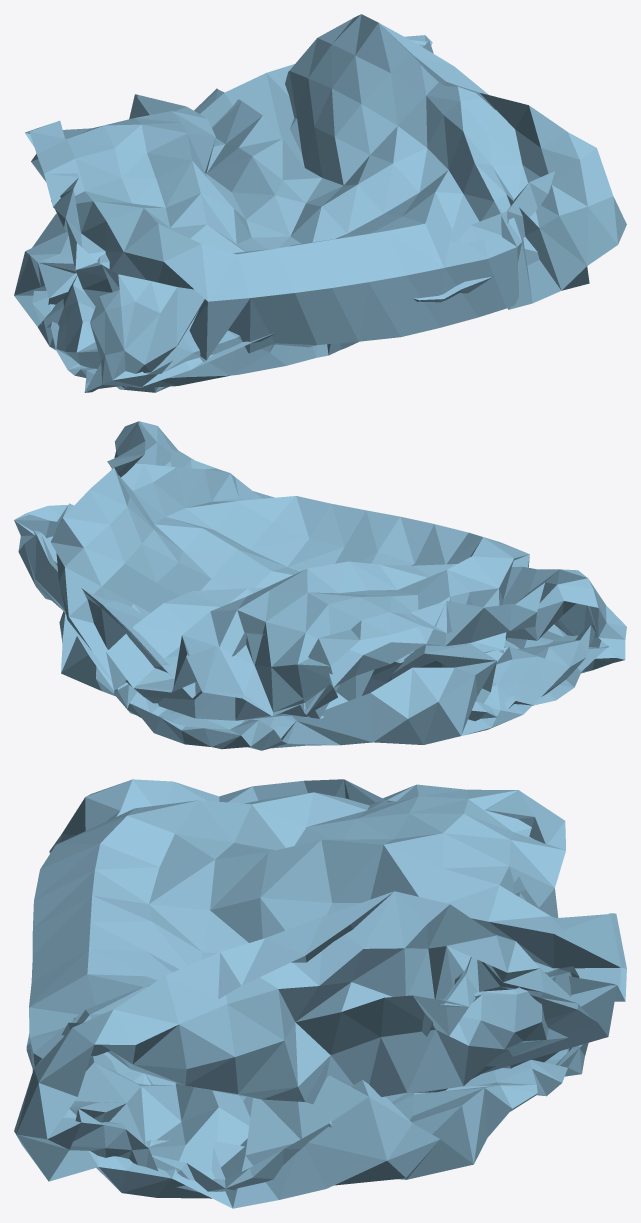
File: frame_20.glb
3 views of the same model, one above another, from view 1: azimuth 30°, elevation 25°; view 2: azimuth 150°, elevation 25°; view 3: azimuth 270°, elevation 25° (orthographic). The views are drawn at different scales.
Visible parts, largest first — view 1: frame_20.obj; view 2: frame_20.obj; view 3: frame_20.obj.
Boxes of the visible parts, <box> form: frame_20.obj: <box>14,14,626,392</box>; frame_20.obj: <box>14,421,626,750</box>; frame_20.obj: <box>14,779,626,1208</box>.
Bounding box in the file's own units: 1.1 × 0.4341 × 0.8449.
